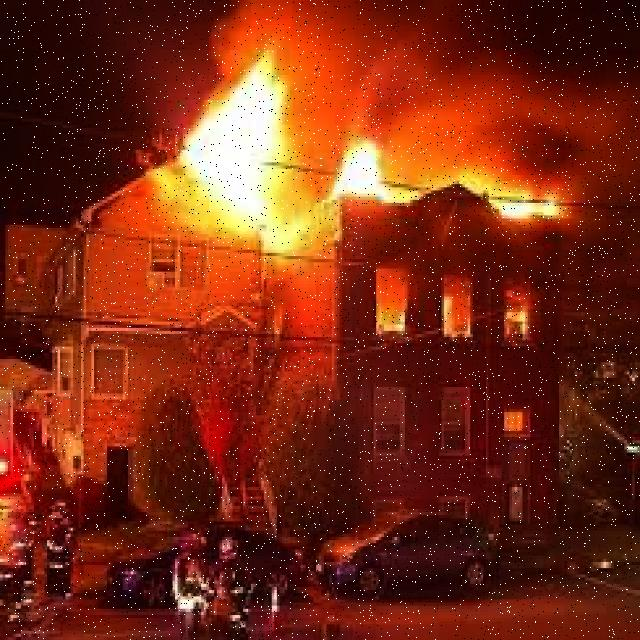fire: (178, 39, 554, 219)
